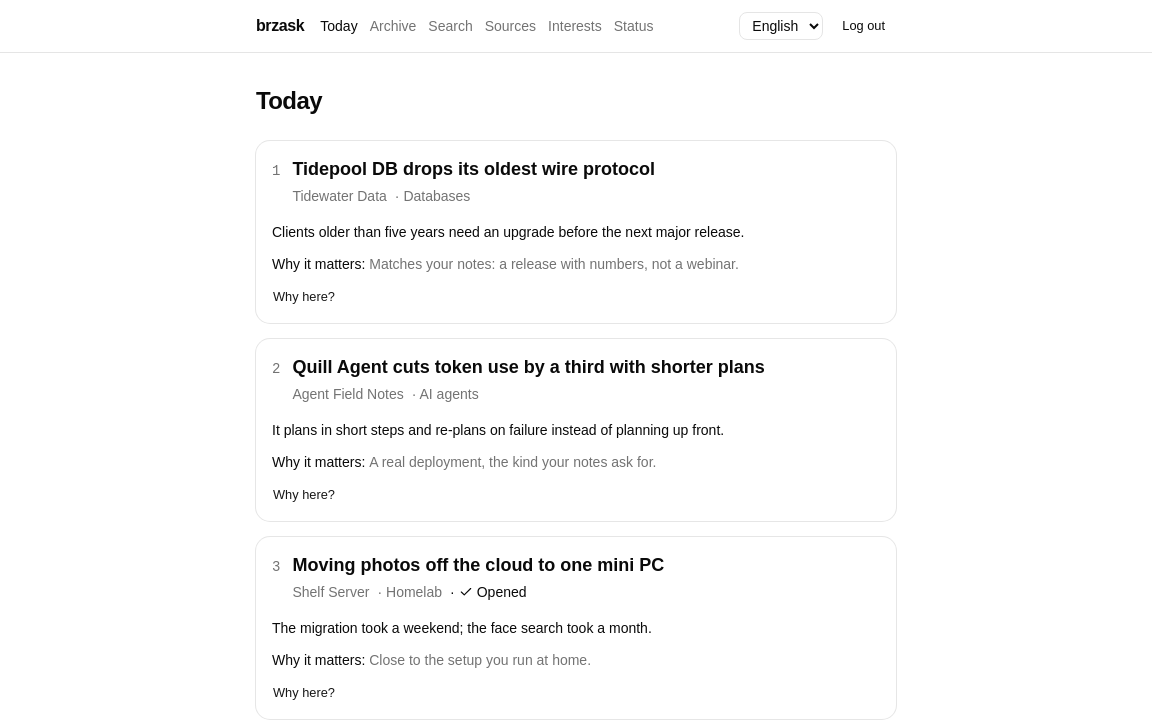
today › marks an article opened as soon as it is followed
Click the link "Quill Agent cuts token use by a third with shorter plans": (529,367) [292, 357, 765, 377]
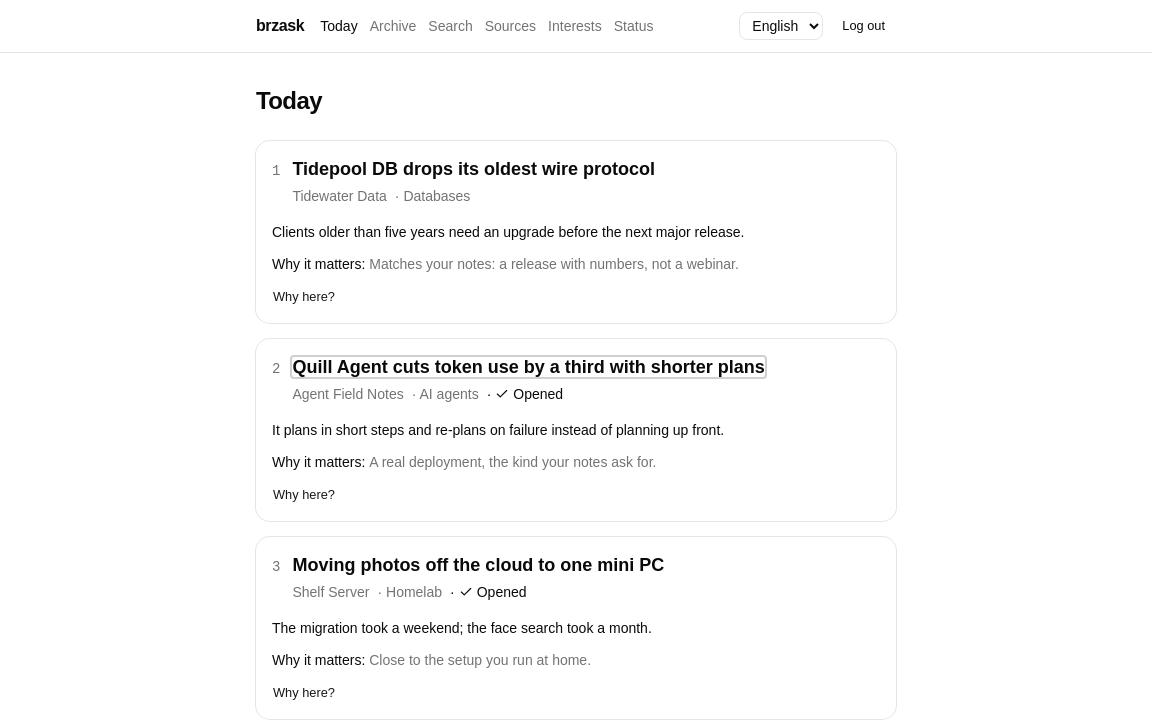
Expected: the text "Opened" in the row of "Agent Field Notes" is shown, [513, 386, 563, 402]
